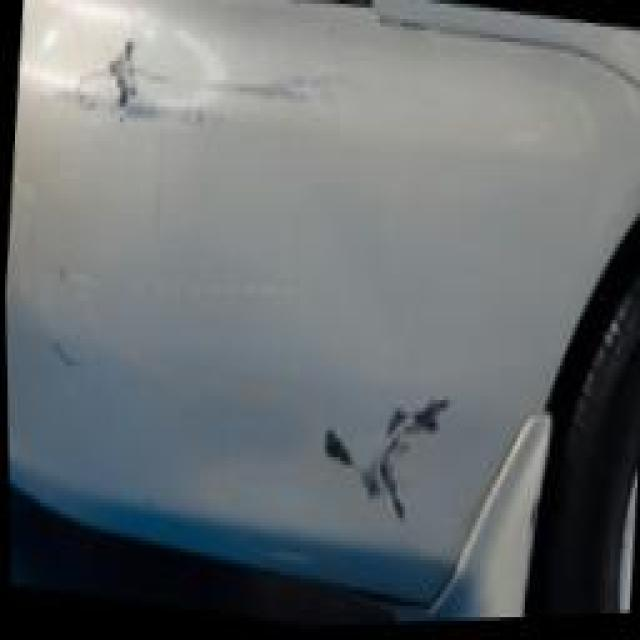Bumper: (0, 0, 544, 613)
